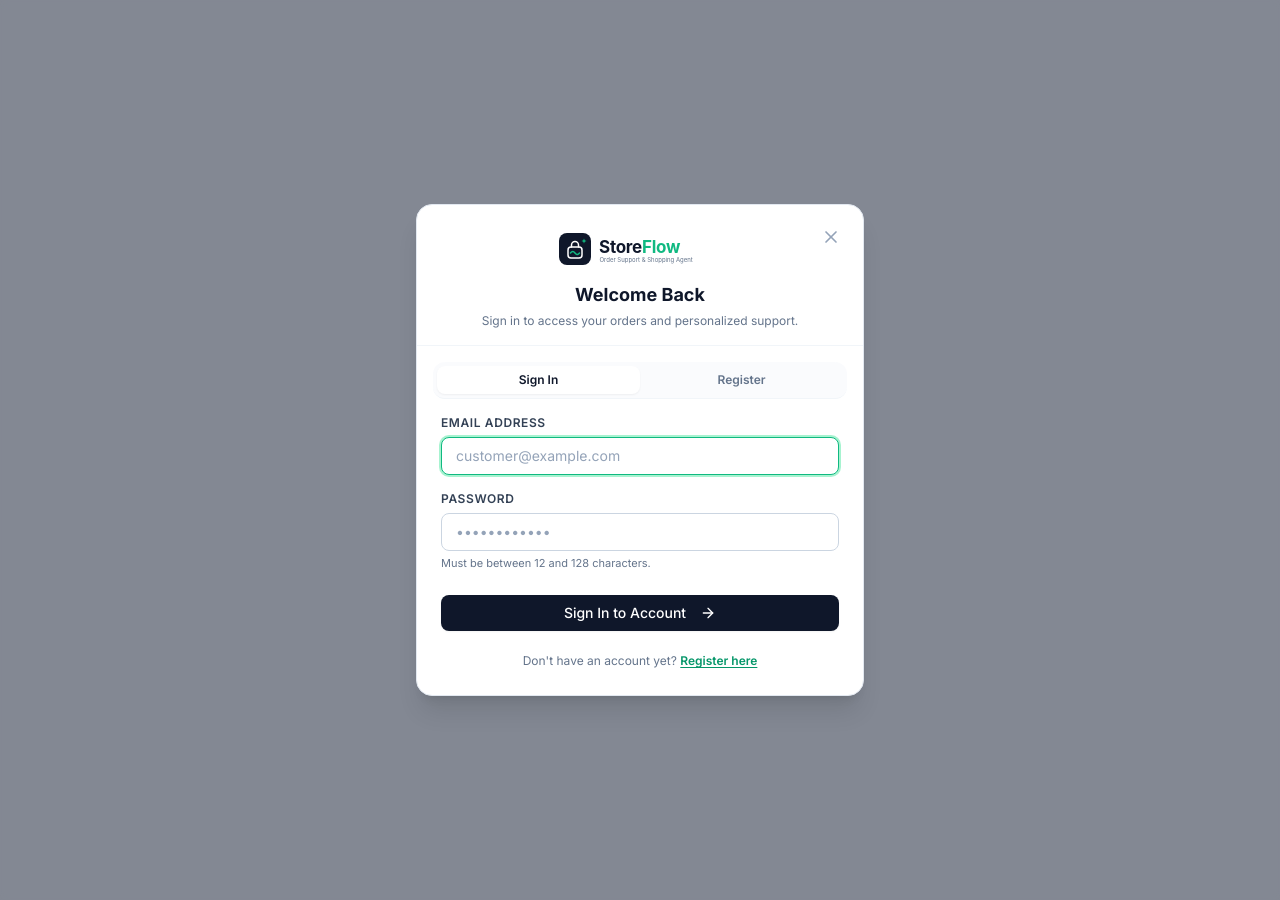
Test: AuthModal Component › switches to register tab and validates display_name requirement
Click the button "Register" at (742, 380), box [640, 366, 843, 394]
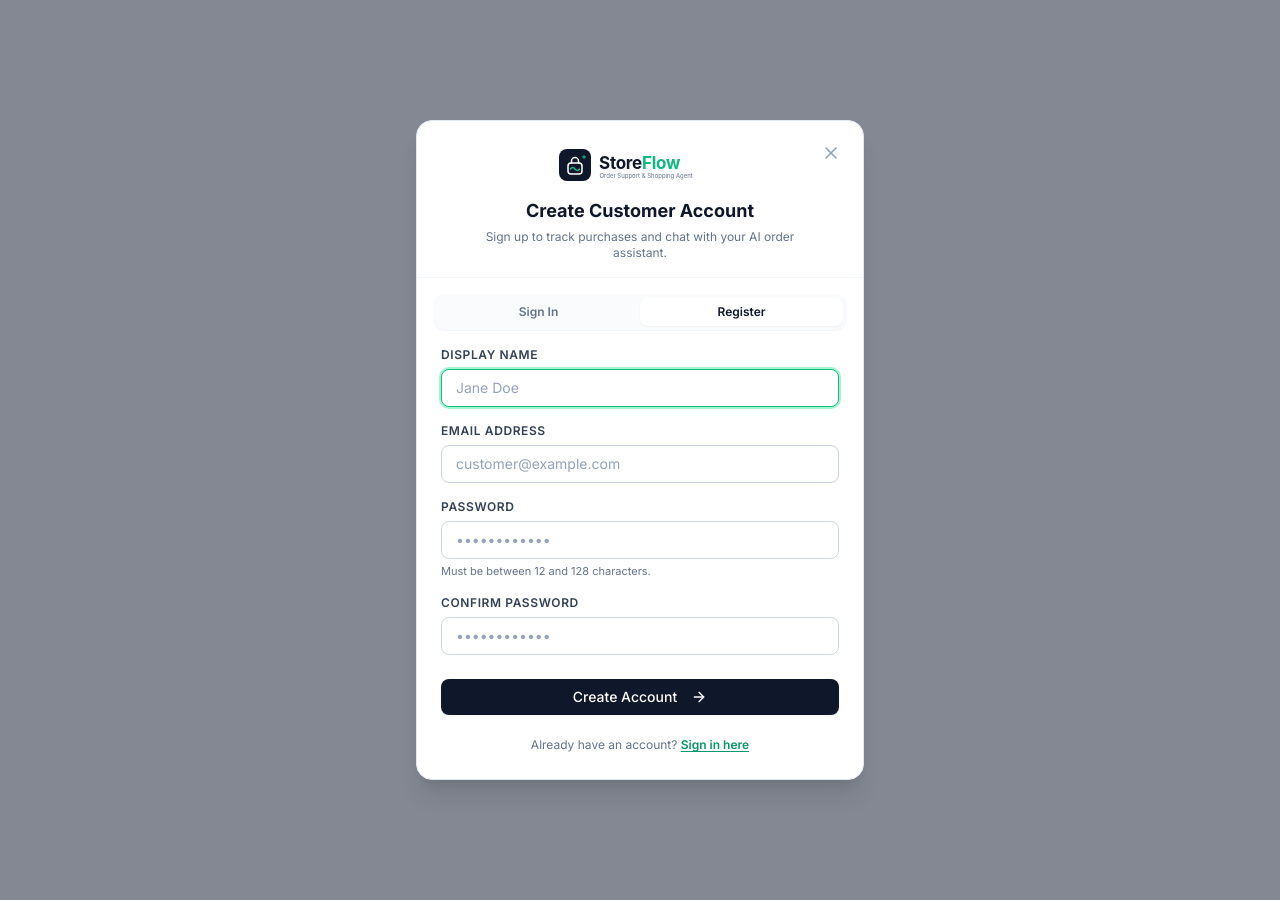
Expected: the heading "Create Customer Account" is shown, [526, 197, 754, 225]
Expected: the field labelled "Display Name" is shown, [441, 369, 839, 407]
Expected: the password field labelled "Confirm Password" is shown, [441, 617, 839, 655]
# Fill email and valid 12-char password but no display name
Type "test@example.com" into the field labelled "Email Address" at (640, 464), box [441, 445, 839, 483]
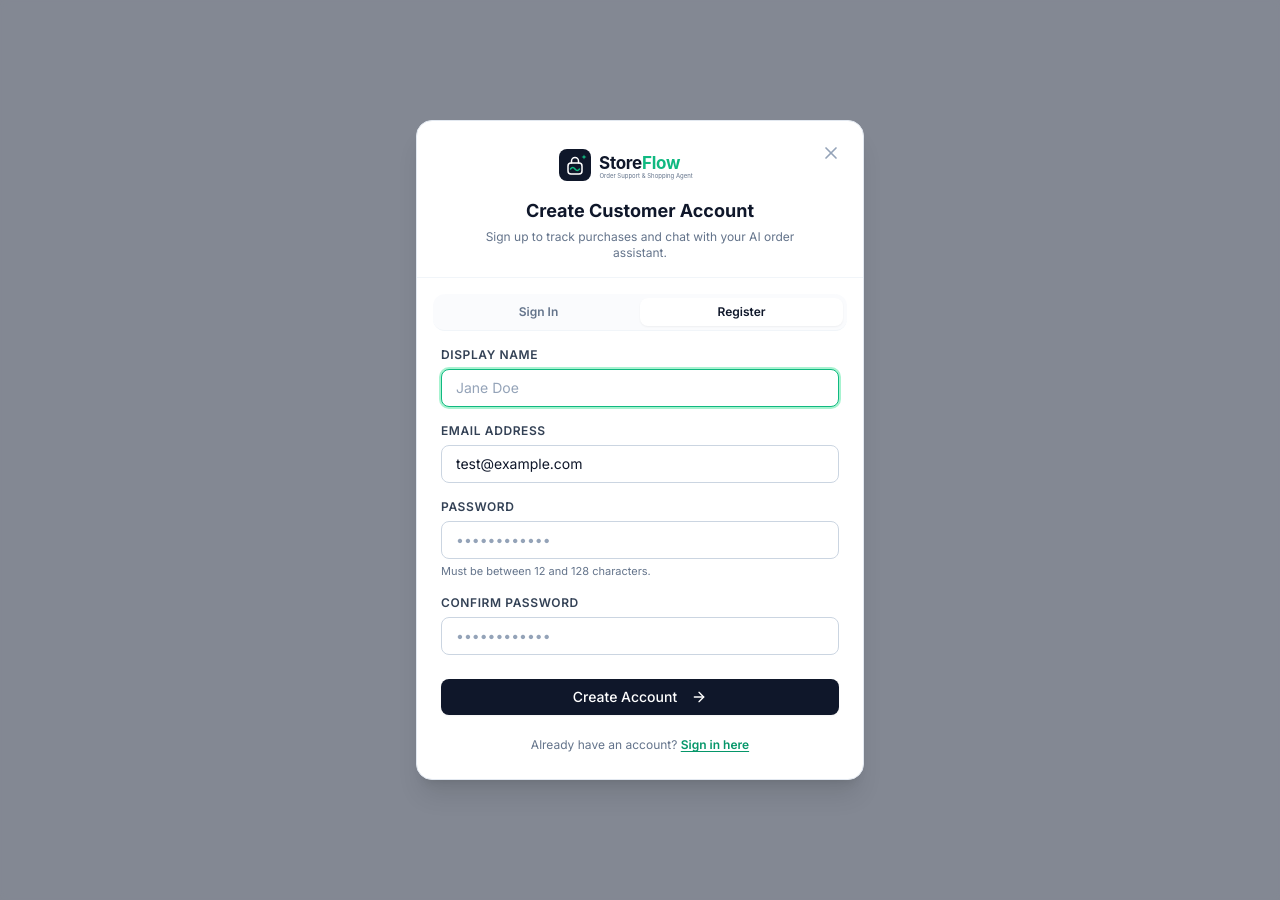
Type "Password123456!" into the password field labelled "Password" at (640, 540), box [441, 521, 839, 559]
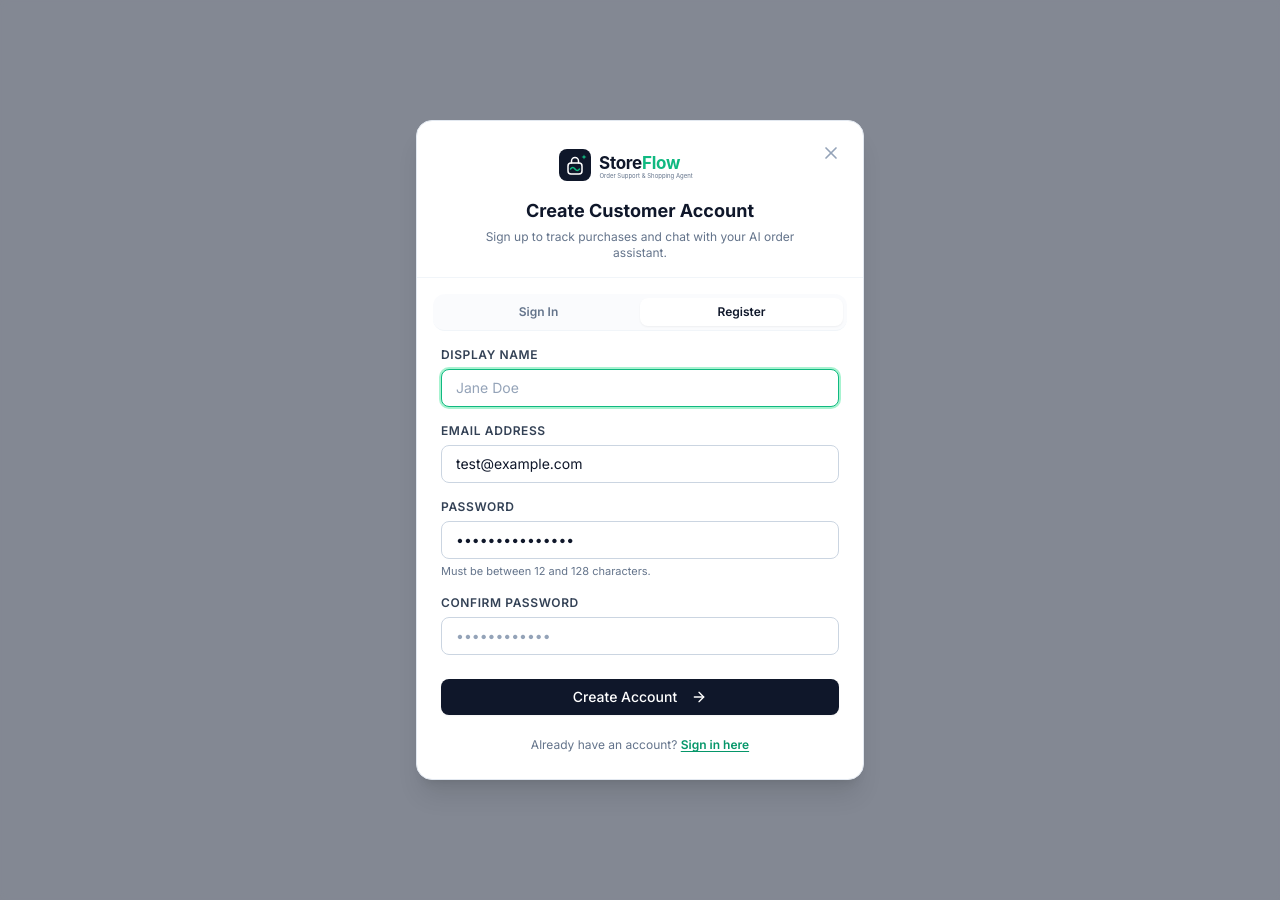
Type "Password123456!" into the password field labelled "Confirm Password" at (640, 636), box [441, 617, 839, 655]
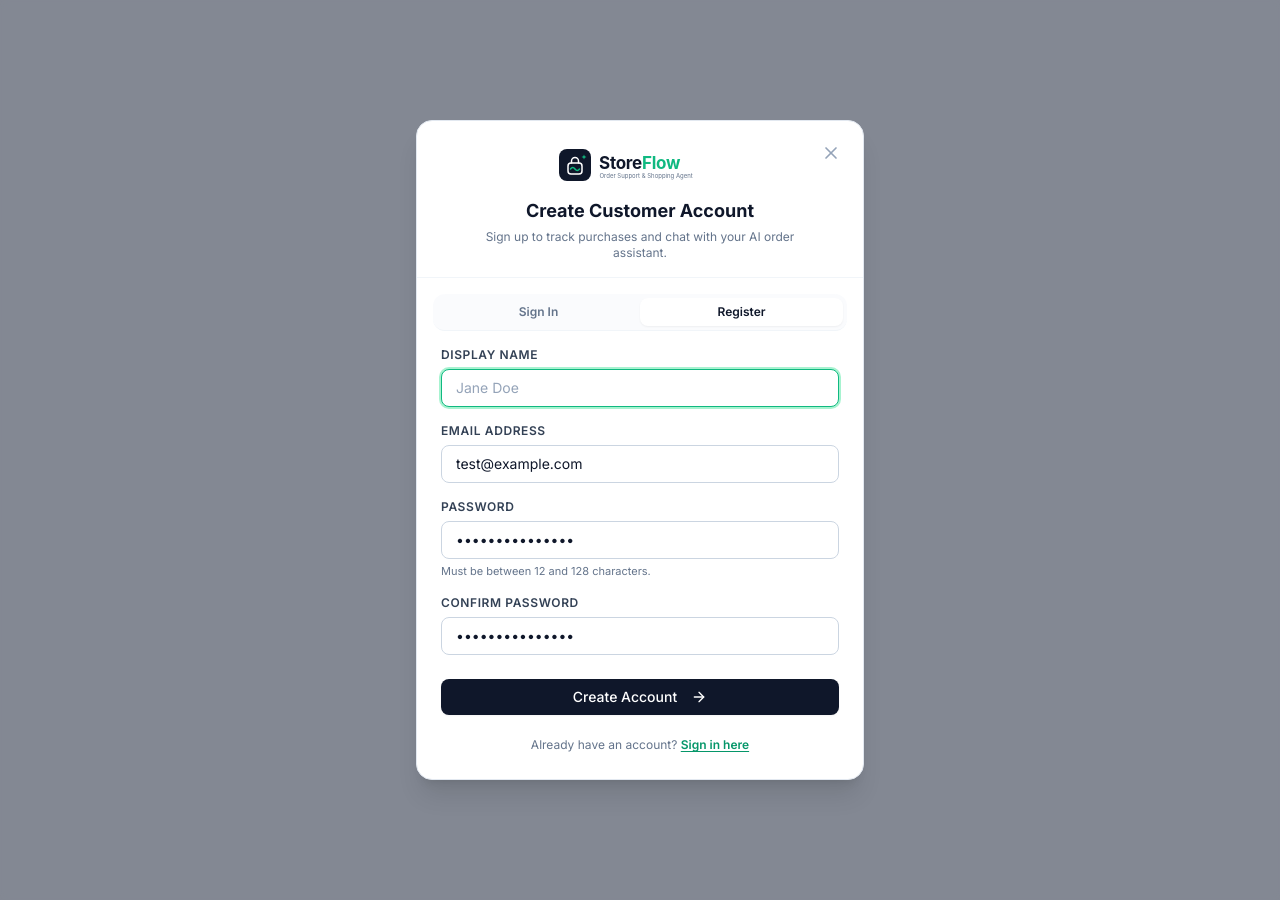
Submit the form named "Create Account", box [417, 347, 863, 779]
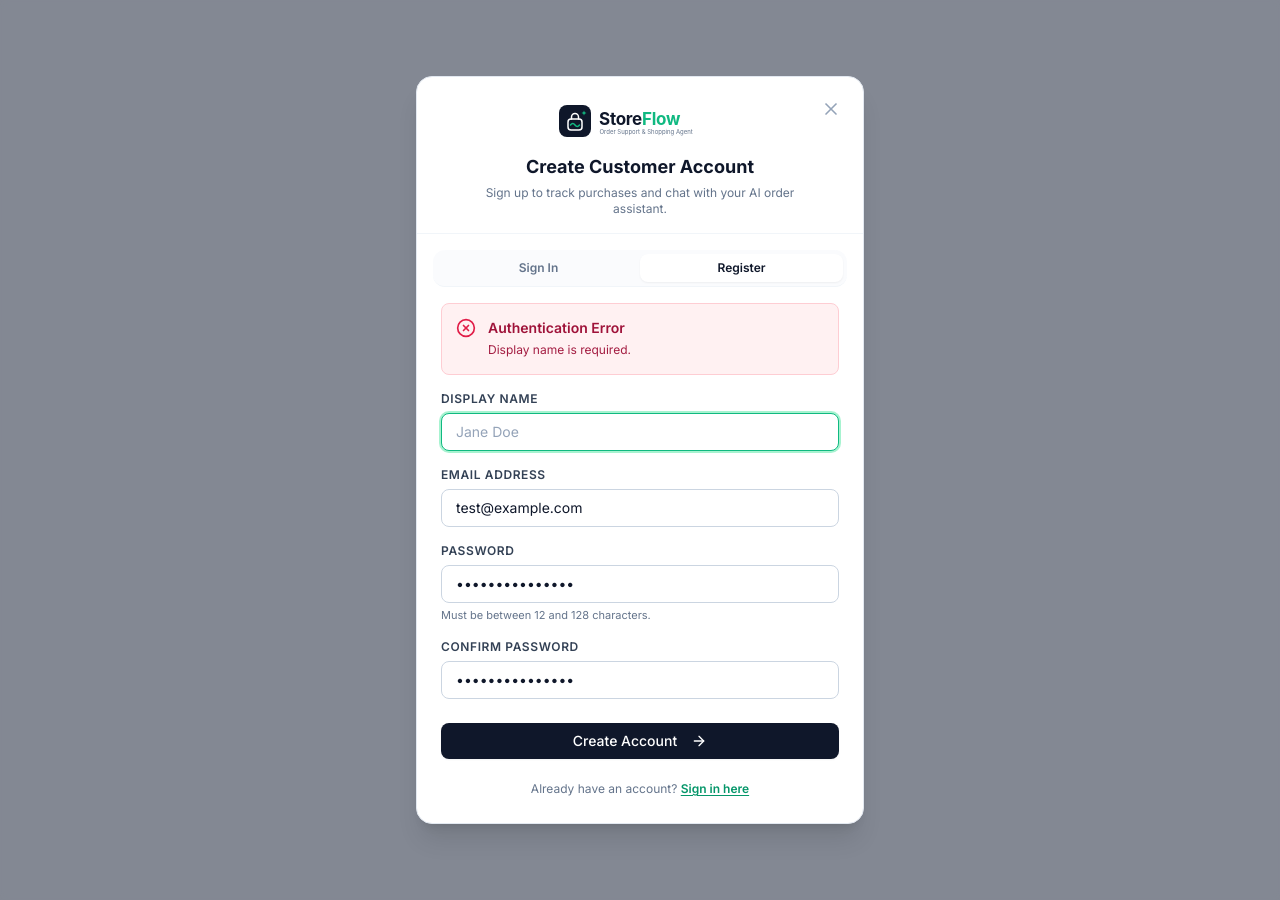
Expected: the text "Display name is required." is shown, [488, 342, 631, 357]
